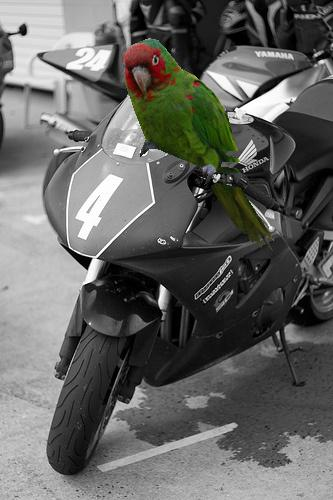tampered: (124, 39, 274, 252)
